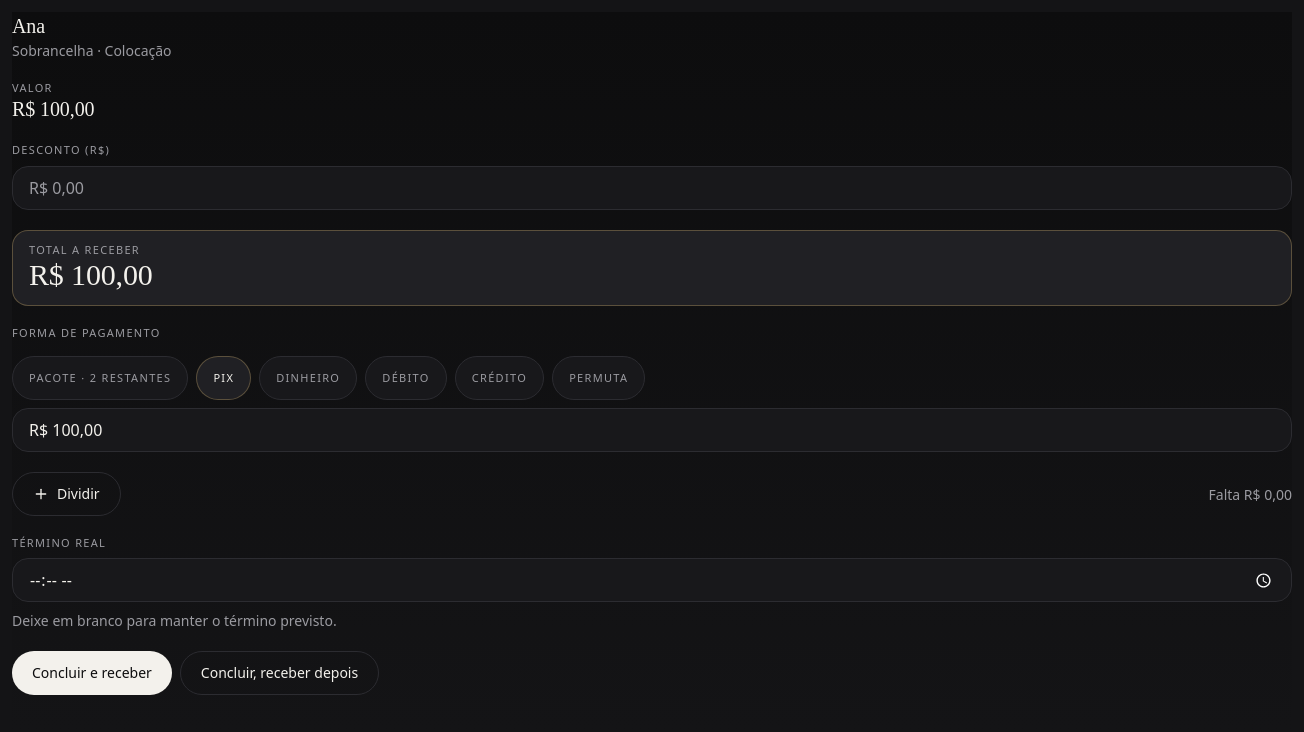
Test case: Payment sheet, package mode › selecting a payment method again leaves the package mode
What coordinates should you click on to do the following:
click the button "PACOTE · 2 restantes"
I would click on:
 (100, 378)
Its box is [12,356,188,400].
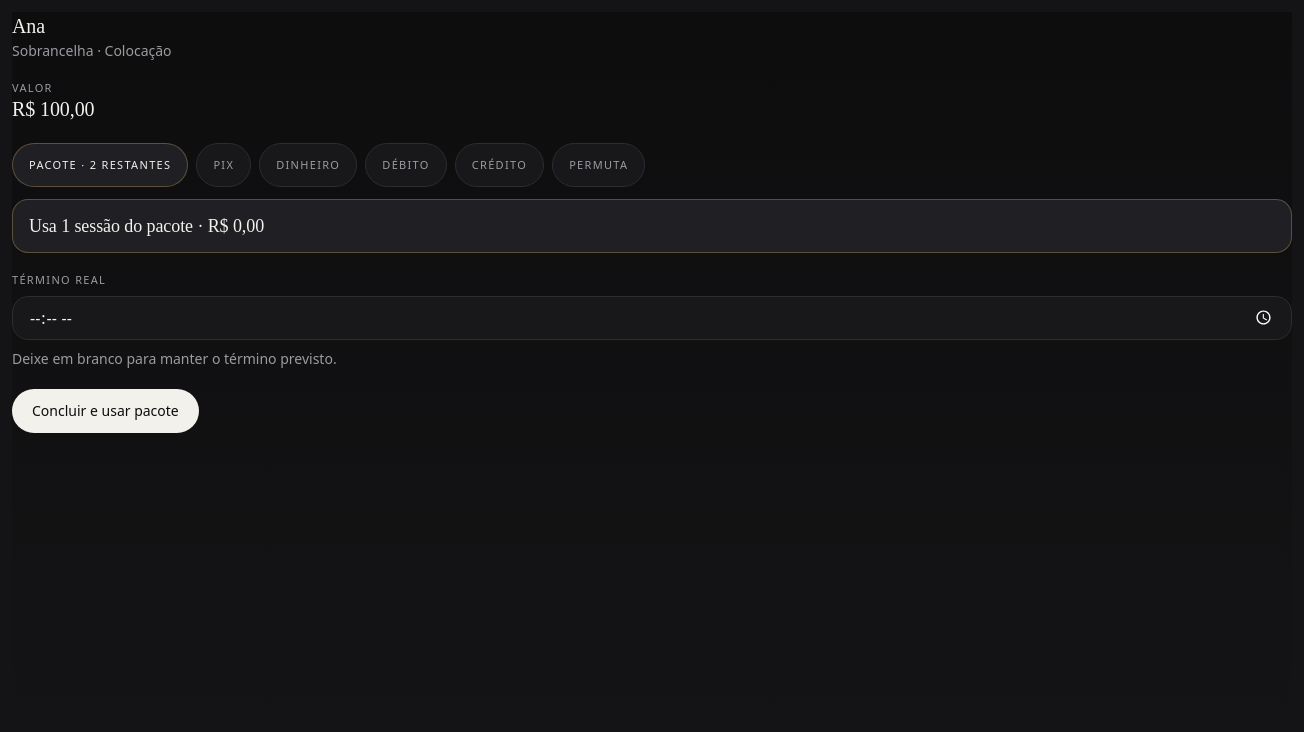
What coordinates should you click on to do the following:
click the button "Pix"
I would click on:
 (224, 165)
Its box is [196,143,251,187].
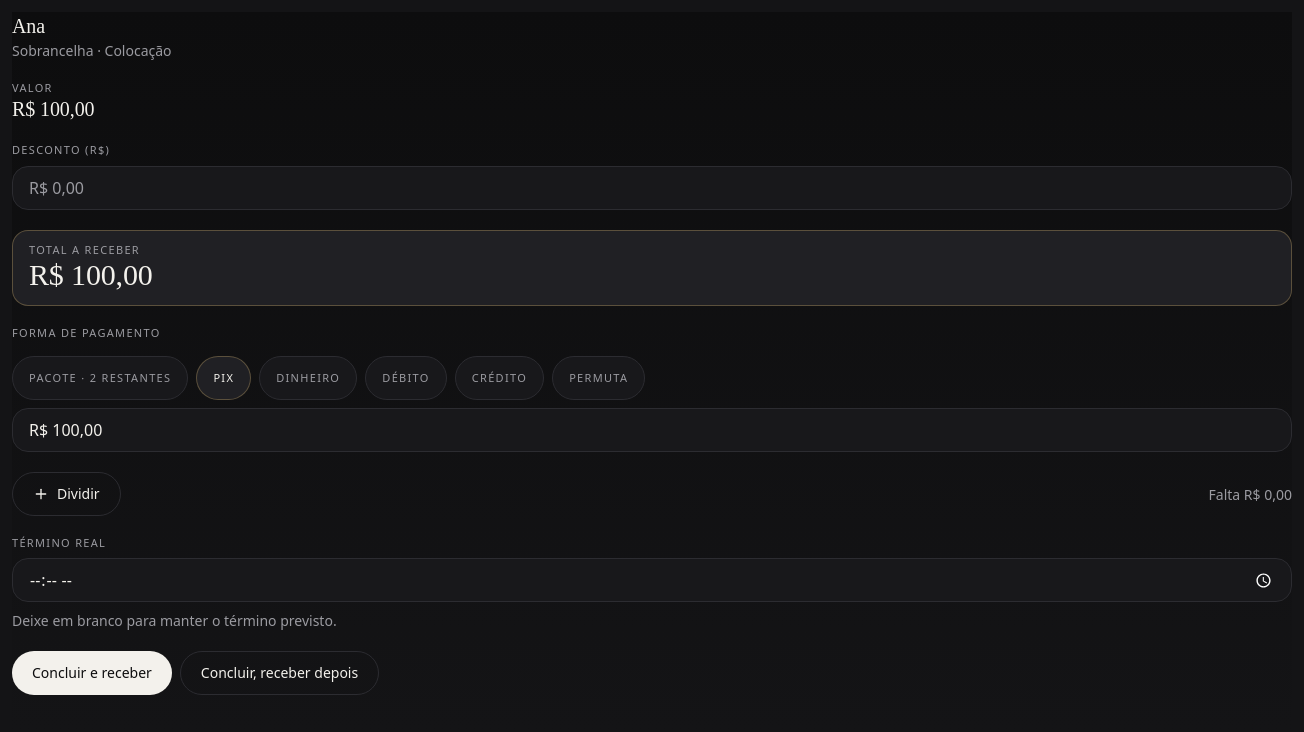
Result: the field labelled "Desconto (R$)" is shown at [12,166,1292,210]
Result: the button "Concluir e receber" is shown at [12,652,172,696]
